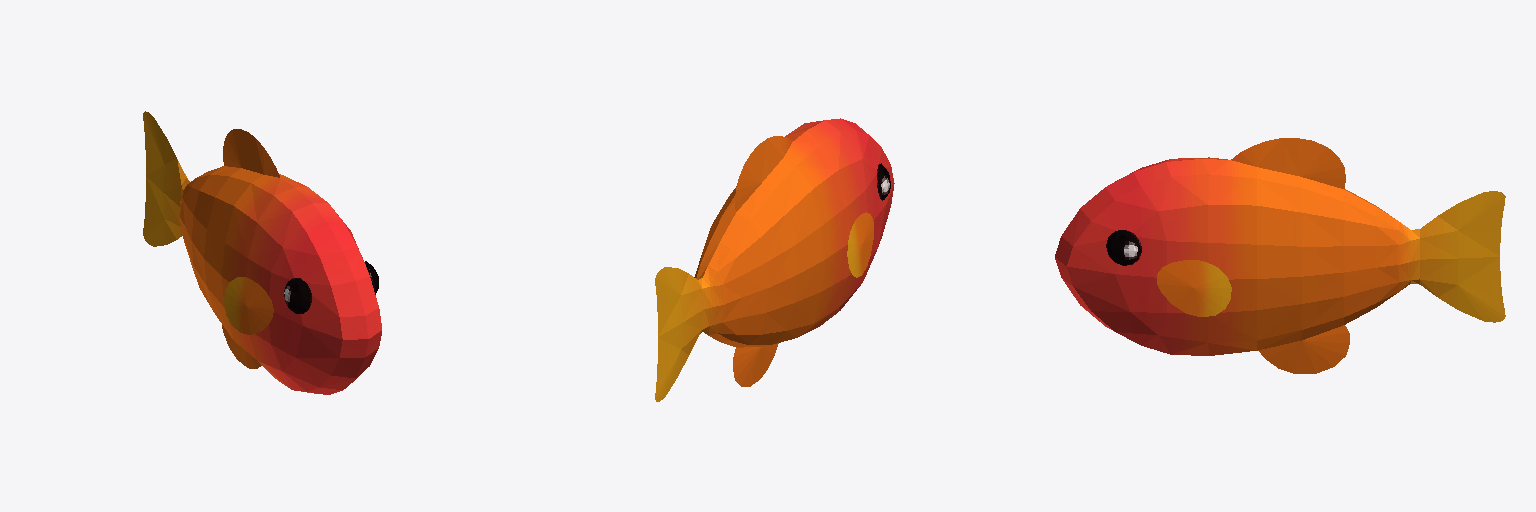
3 renders of one model, left to right at view 1: azimuth 30°, elevation 25°; view 2: azimuth 150°, elevation 25°; view 3: azimuth 270°, elevation 25°, orthographic.
Parts seen in each view (by area): view 1: FishA__FishAMat00; view 2: FishA__FishAMat00; view 3: FishA__FishAMat00.
Part boxes in pixels (left/top/right/bottom): FishA__FishAMat00: left=143, top=111, right=381, bottom=394; FishA__FishAMat00: left=655, top=118, right=894, bottom=401; FishA__FishAMat00: left=1055, top=138, right=1505, bottom=373.
Bounding box in the file's own units: 3.95 × 7.83 × 13.55.
1 materials, 1 textured.